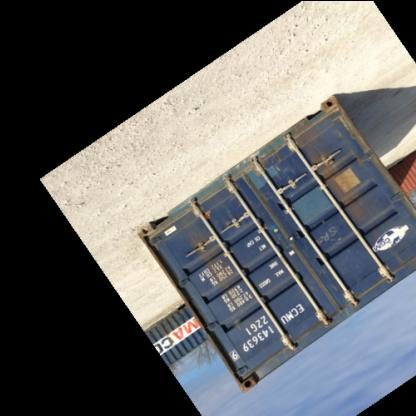Damage: (190, 232, 227, 296), (254, 144, 302, 190), (312, 144, 348, 204), (310, 220, 340, 251), (238, 369, 258, 395), (223, 206, 238, 226)
